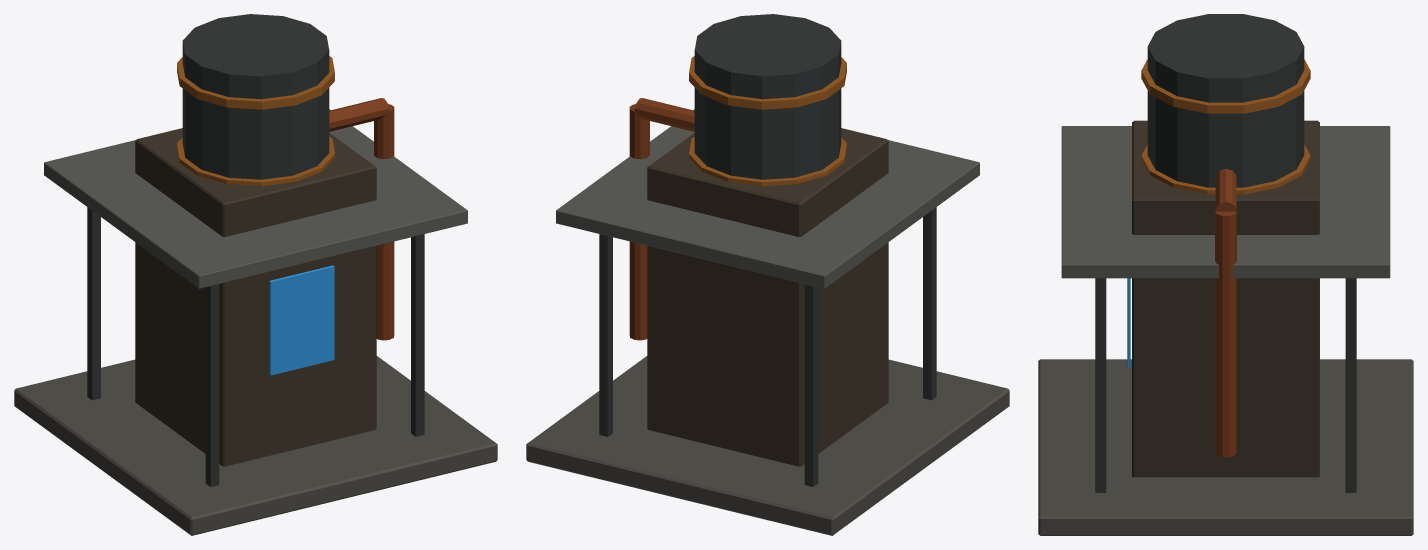
The model's file is BrassRefineryTower.glb.
The picture shows the model from 3 angles, left to right: view 1: azimuth 30°, elevation 25°; view 2: azimuth 150°, elevation 25°; view 3: azimuth 270°, elevation 25°; orthographic projection. The views are drawn at different scales.
Parts seen in each view (by area): view 1: BrassRefineryTower; view 2: BrassRefineryTower; view 3: BrassRefineryTower.
Boxes of the visible parts, bbox=[...] form: BrassRefineryTower: bbox=[14, 14, 497, 535]; BrassRefineryTower: bbox=[526, 14, 1009, 535]; BrassRefineryTower: bbox=[1038, 14, 1413, 535].
Bounding box in the file's own units: 24 × 29 × 24.
1 material, 1 textured.
